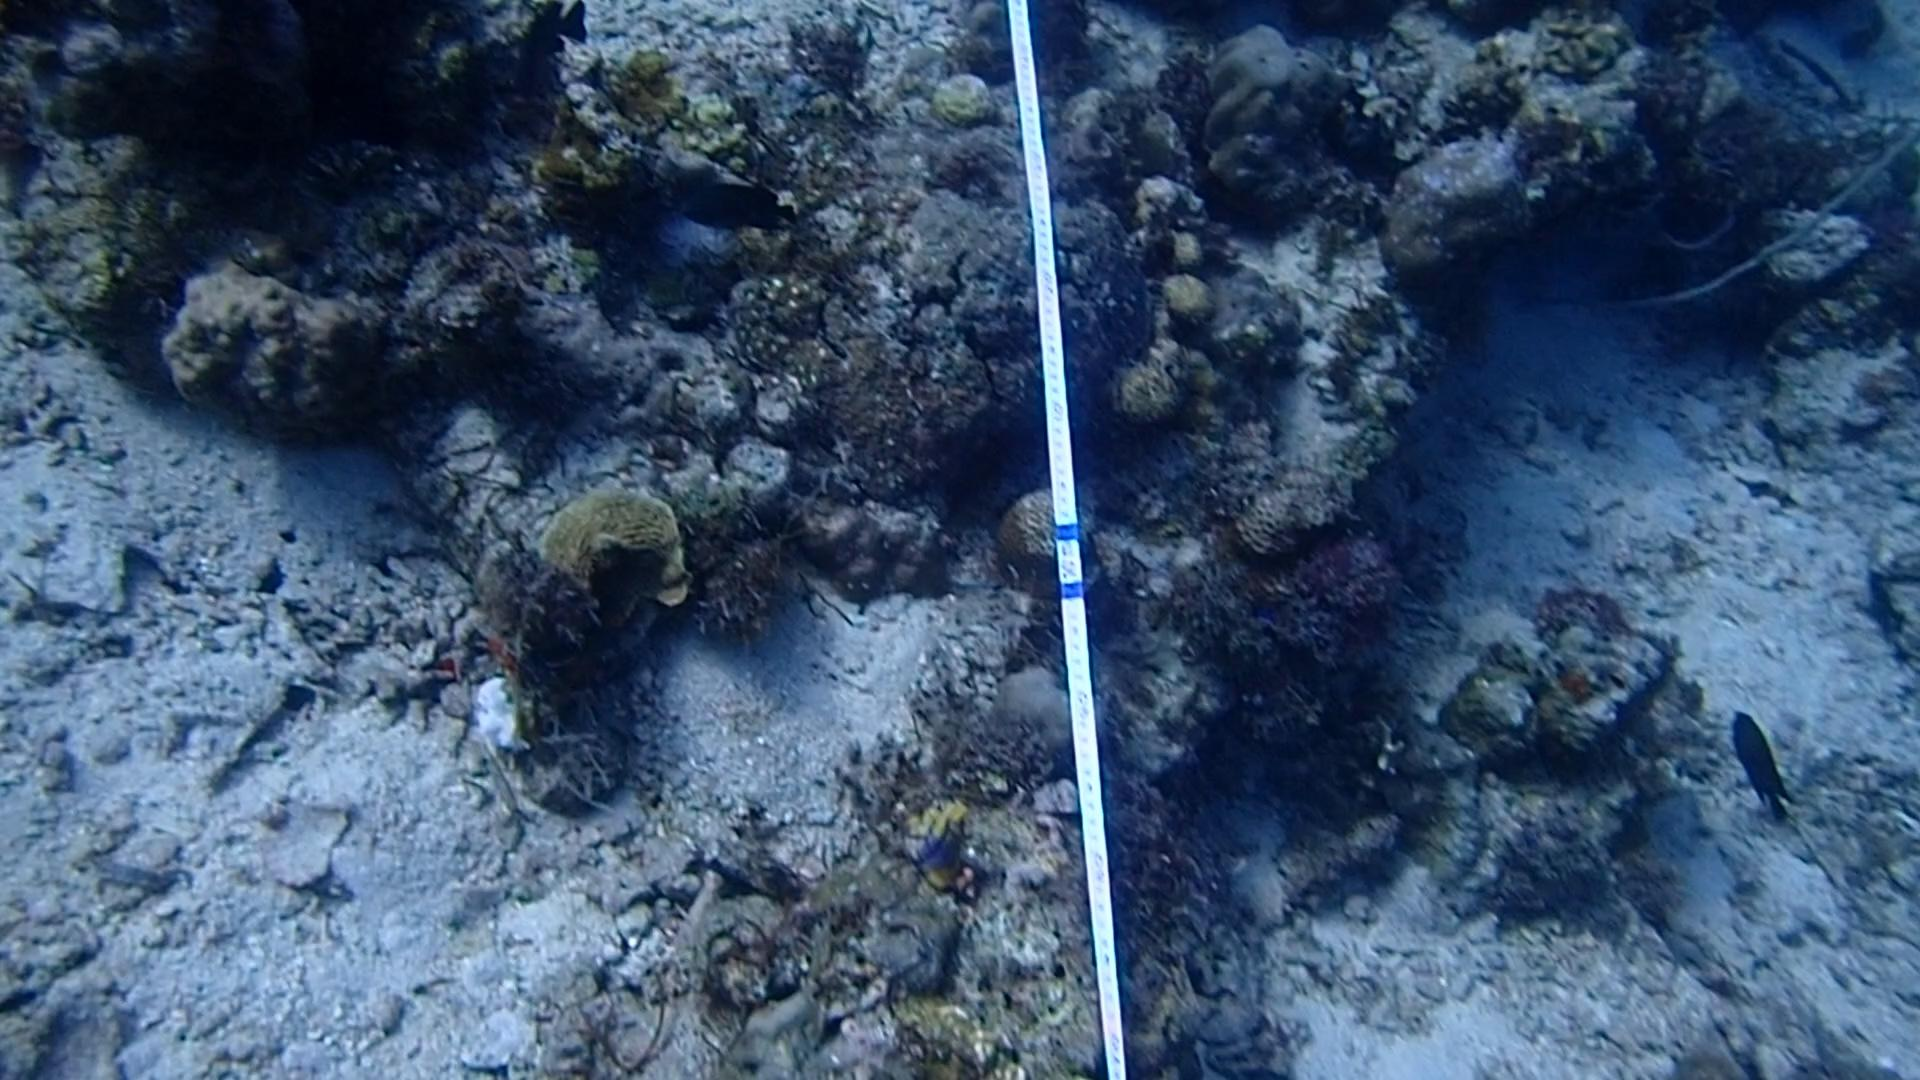Dark Fish: (1718, 703, 1805, 831), (670, 170, 806, 240)
